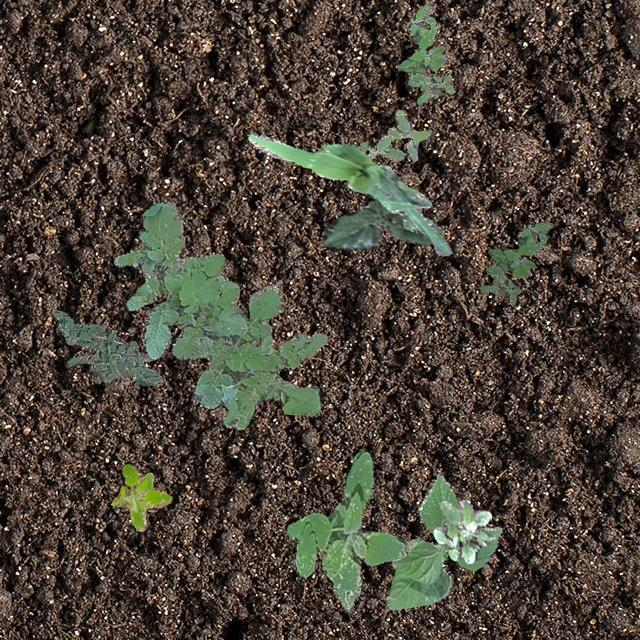crop: (247, 133, 450, 255), (386, 474, 500, 608), (322, 198, 444, 250)
weed: (112, 200, 326, 428), (286, 450, 410, 610), (52, 310, 162, 384), (480, 220, 552, 304), (397, 2, 452, 102), (432, 498, 494, 562), (110, 464, 170, 530), (360, 108, 430, 160)
